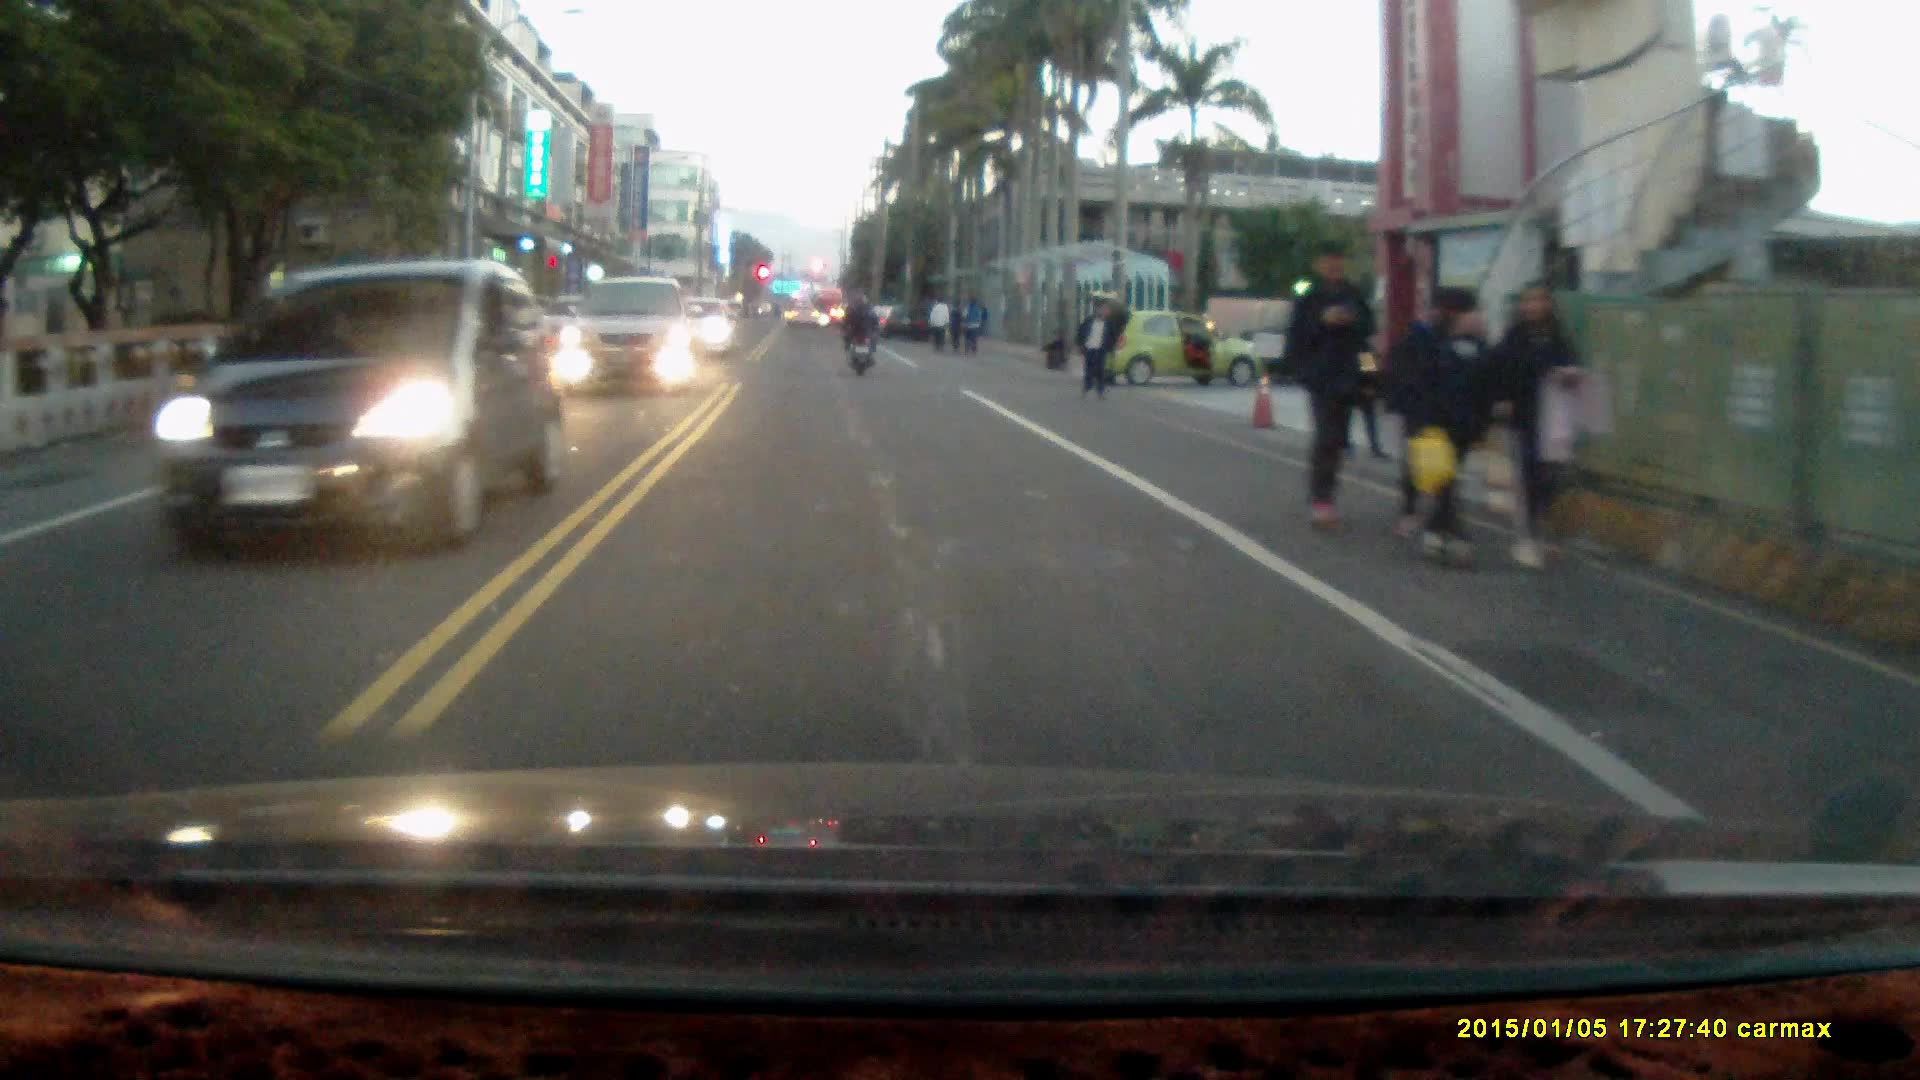pedestrian: (1395, 283, 1499, 572), (1488, 277, 1582, 577), (1281, 239, 1374, 541), (1071, 297, 1112, 404), (958, 294, 984, 356), (1036, 323, 1068, 372)
rider: (838, 293, 879, 379)
vehicle: (97, 259, 552, 561), (1082, 293, 1255, 389), (558, 276, 699, 392)
